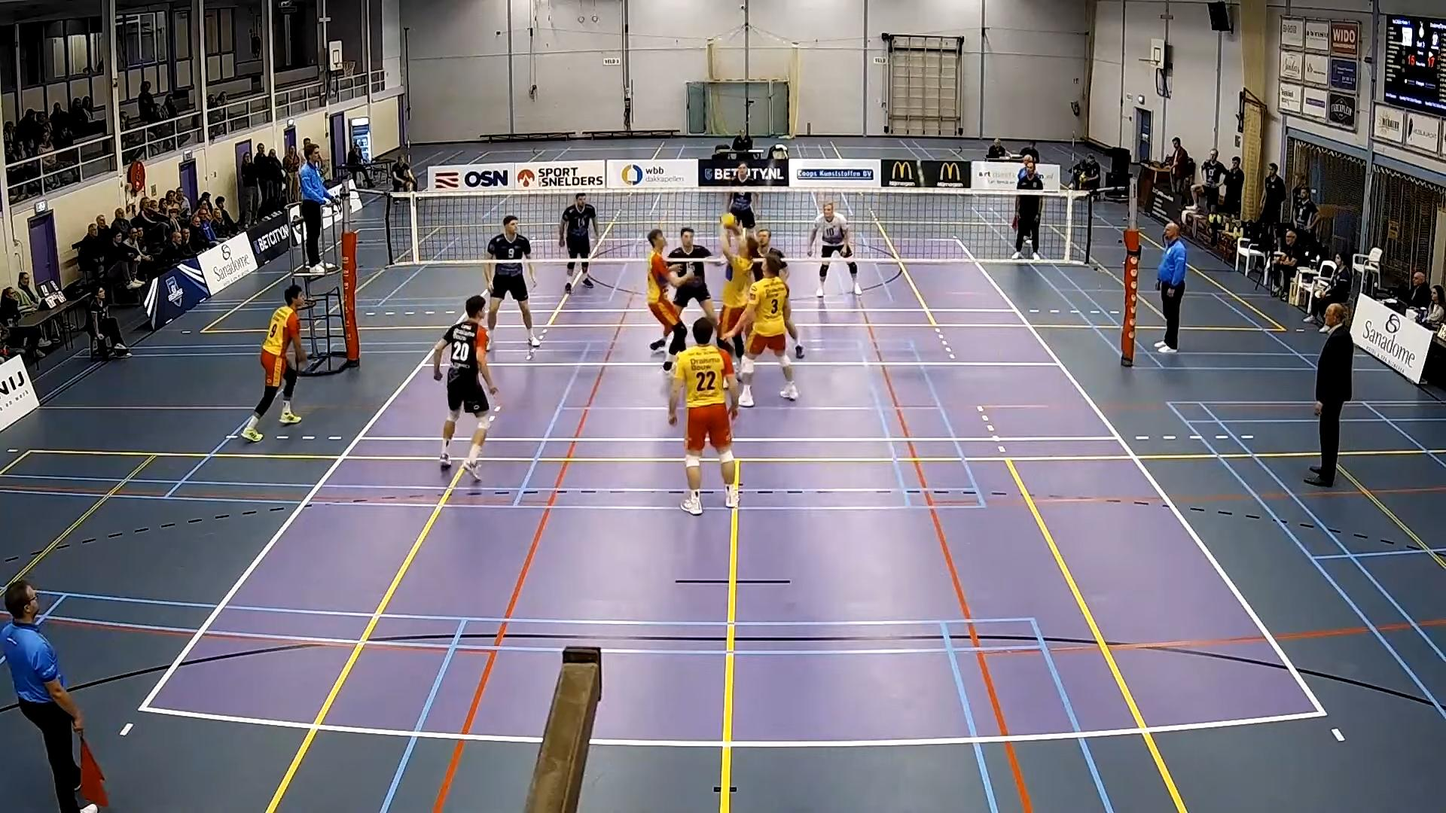alzata: (713, 222, 758, 383)
